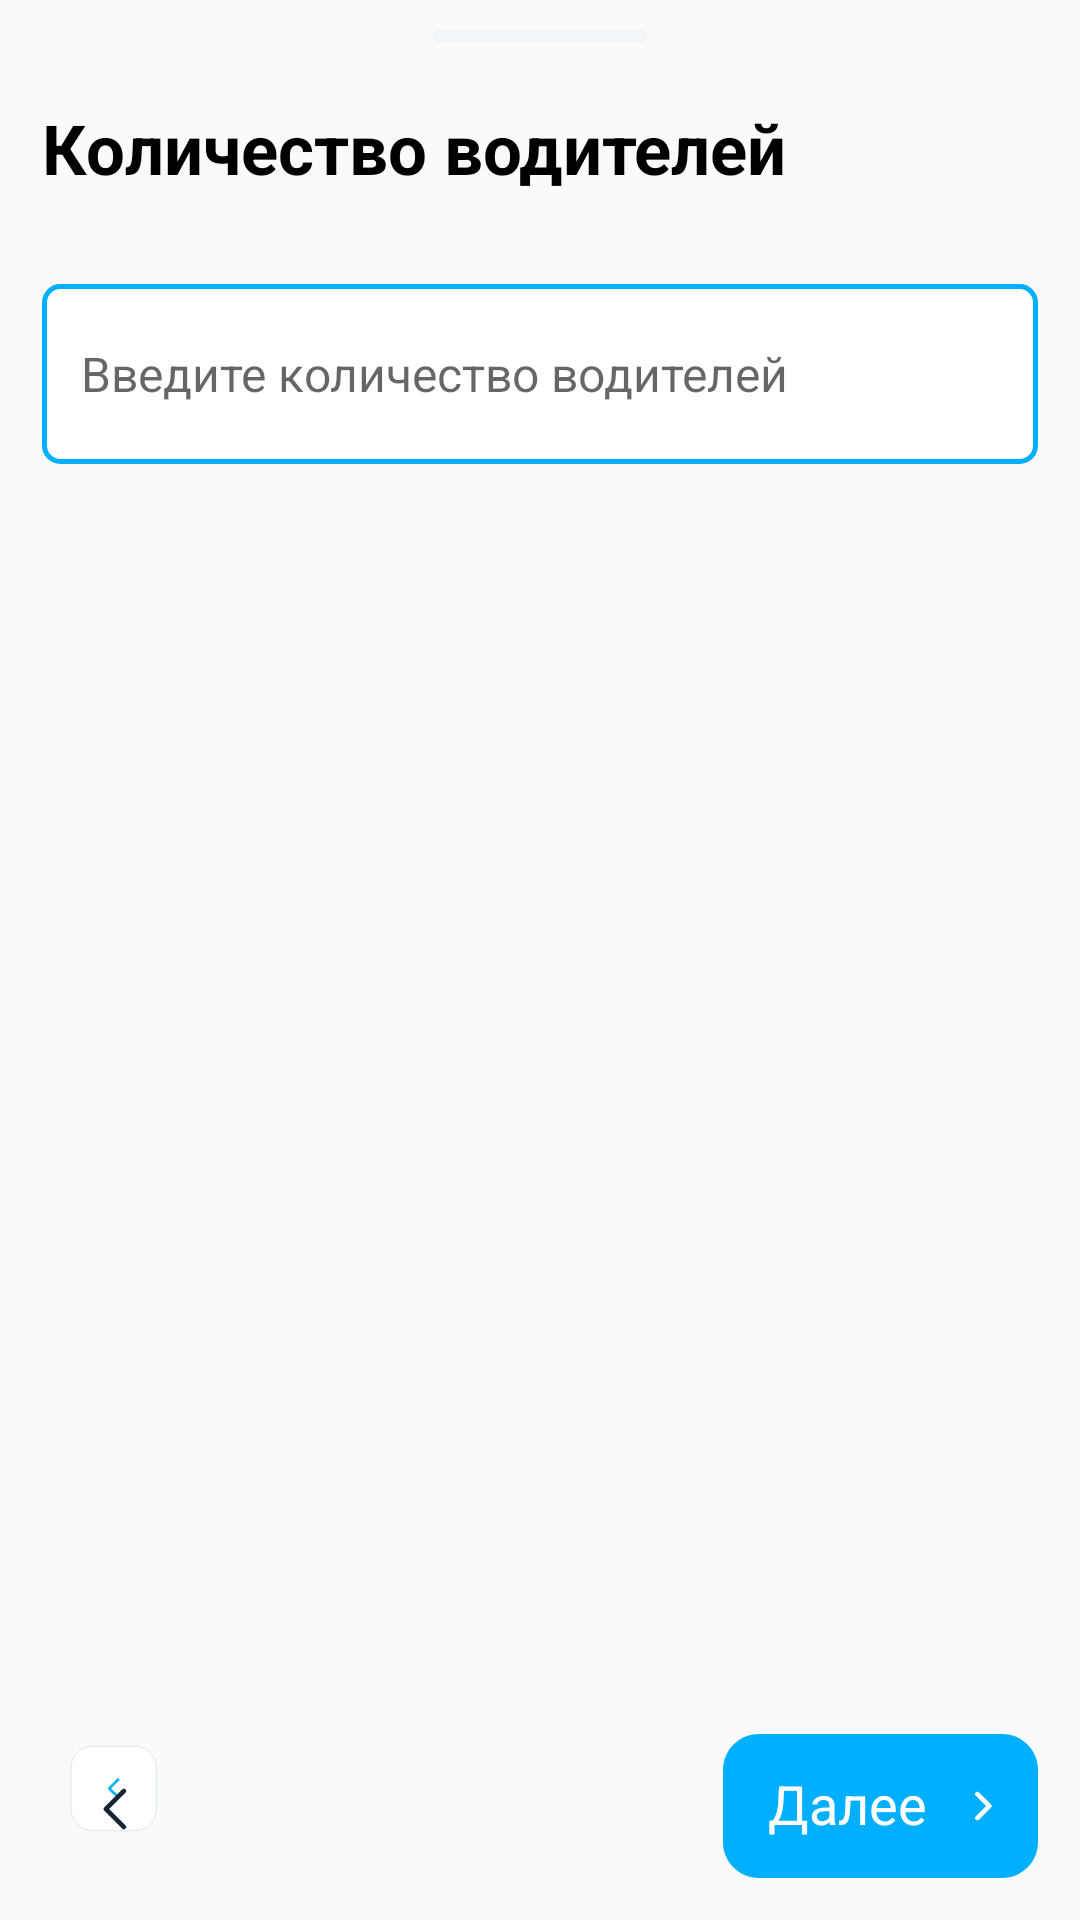

Screen size 1080*1920. Icon name, then its box in pixels as {"left": x1, "top": y1, "right": x2, "bottom": y2}:
back: {"left": 103, "top": 1788, "right": 127, "bottom": 1830}
